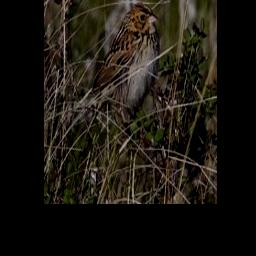Sparrow: (61, 2, 163, 134)
